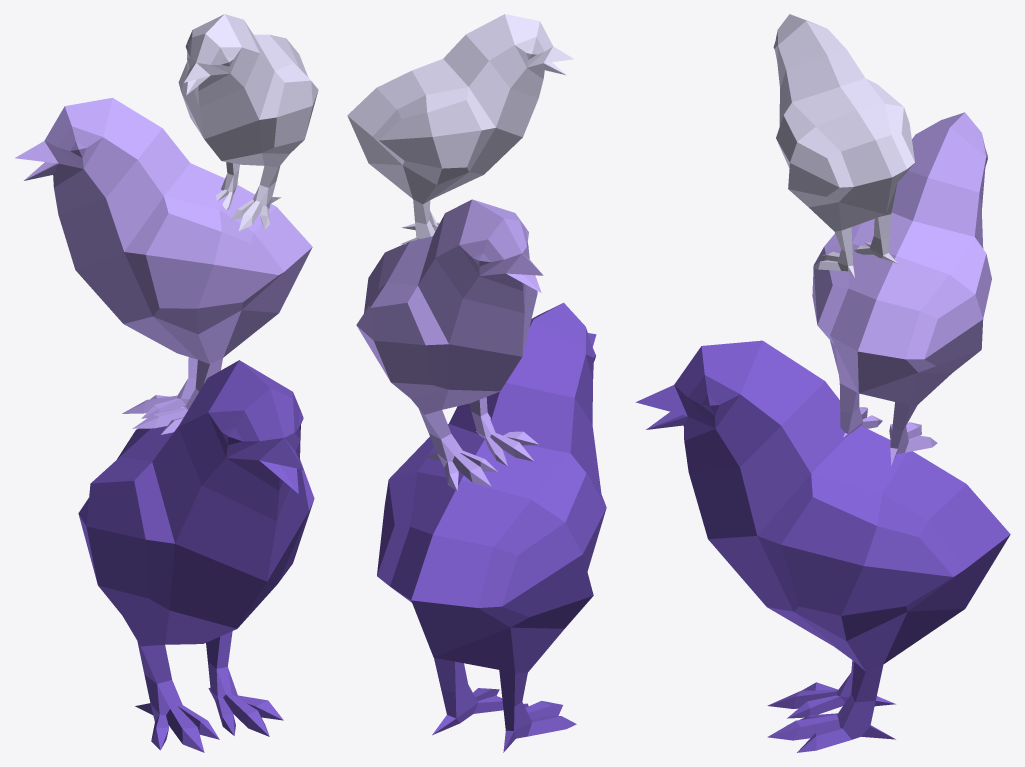
The model's file is 035_chick.fbx.
3 renders of one model, left to right at view 1: azimuth 30°, elevation 25°; view 2: azimuth 150°, elevation 25°; view 3: azimuth 270°, elevation 25°, orthographic. The views are drawn at different scales.
Parts seen in each view (by area): view 1: chick; view 2: chick; view 3: chick.
Boxes of the visible parts, x1,y1,x2,y2 form: chick: [15, 14, 318, 752]; chick: [347, 14, 606, 752]; chick: [635, 14, 1010, 752].
Size of the model in its own units: 36.36 by 102 by 49.26.
